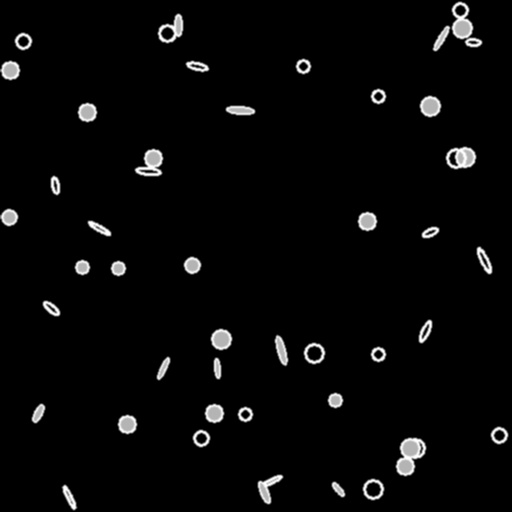pseudomonas: (432, 25, 450, 51), (475, 247, 493, 273), (274, 336, 288, 364), (61, 485, 77, 509), (87, 220, 111, 236), (260, 474, 282, 488), (418, 320, 432, 342), (156, 357, 170, 379), (257, 481, 271, 503), (42, 300, 60, 316), (186, 60, 208, 72), (135, 166, 161, 176), (31, 404, 45, 422), (331, 481, 345, 497), (226, 106, 254, 114), (421, 226, 439, 238), (50, 176, 60, 194), (174, 14, 181, 36), (214, 359, 220, 377), (465, 39, 481, 45)
synechocystis: (456, 148, 474, 166), (447, 149, 465, 167), (212, 330, 230, 348), (305, 344, 323, 362), (364, 480, 382, 498), (453, 19, 471, 37), (421, 97, 439, 115), (406, 439, 424, 457), (401, 439, 419, 457), (359, 213, 375, 229), (159, 25, 175, 41), (79, 104, 95, 120), (145, 150, 161, 166), (206, 405, 222, 421), (397, 458, 413, 474), (2, 62, 18, 78), (119, 416, 135, 432), (2, 210, 16, 224), (194, 431, 208, 445), (492, 428, 506, 442), (16, 34, 30, 48), (453, 3, 467, 17), (185, 258, 199, 272), (112, 262, 124, 274), (372, 348, 384, 360), (76, 261, 88, 273), (329, 394, 341, 406), (297, 60, 309, 72), (372, 90, 384, 102), (239, 408, 251, 420)
